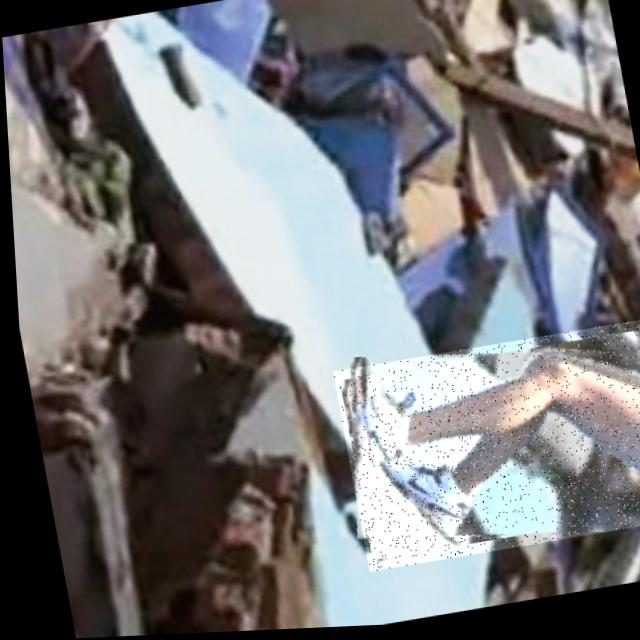Person in Rubble: (325, 323, 640, 575)
